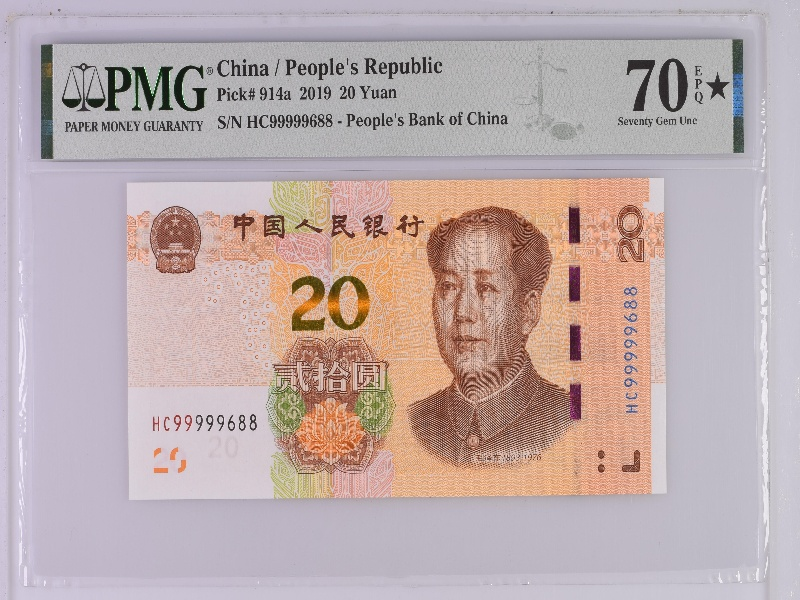papernote: (123, 179, 669, 500)
